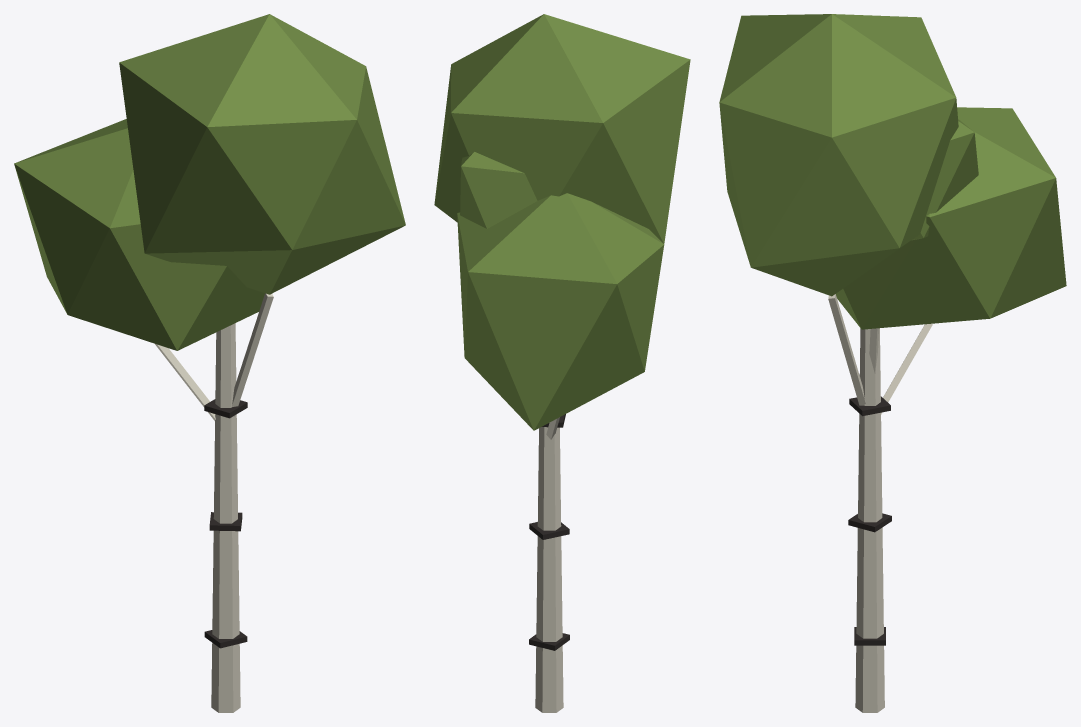
File: birch_0.glb
3 views of the same model, side by side, from view 1: azimuth 30°, elevation 25°; view 2: azimuth 150°, elevation 25°; view 3: azimuth 270°, elevation 25° (orthographic). The views are drawn at different scales.
Visible parts, largest first — view 1: birch_0; view 2: birch_0; view 3: birch_0.
Boxes of the visible parts, box(x1,y1,x2,y2) form: birch_0: box(14, 14, 405, 712); birch_0: box(434, 14, 690, 712); birch_0: box(719, 14, 1066, 712).
Size of the model in its own units: 3.1 by 7.92 by 3.53.
